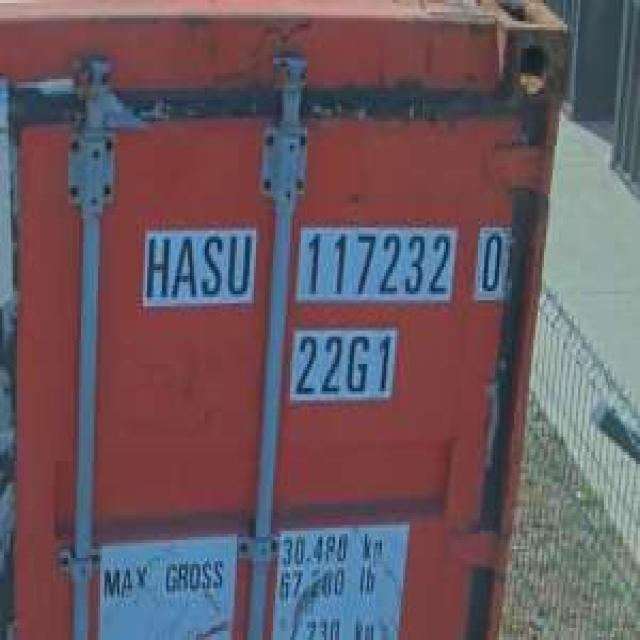dv: (472, 227, 508, 302)
owner: (142, 227, 254, 305)
serial: (296, 227, 456, 305)
size: (289, 329, 398, 402)
